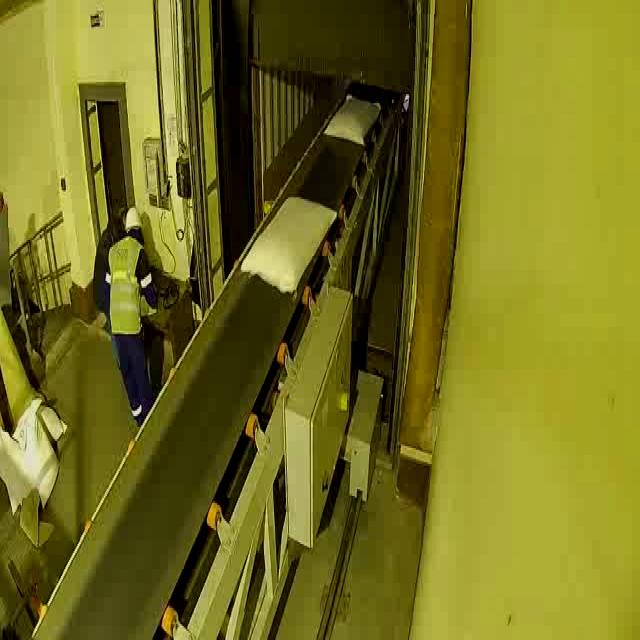bag: (239, 190, 338, 297), (322, 89, 382, 149)
